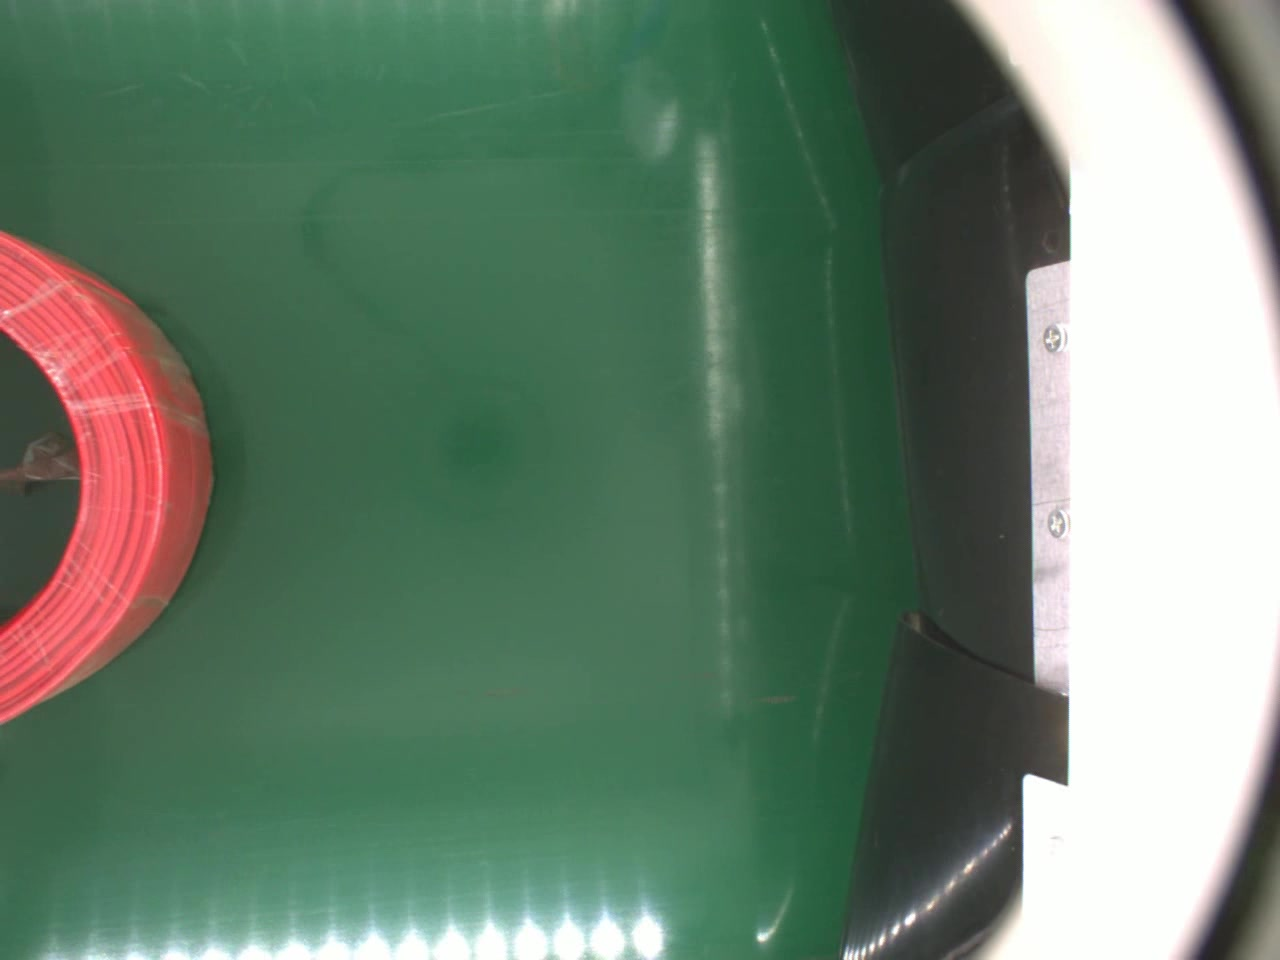red: (0, 226, 216, 724)
